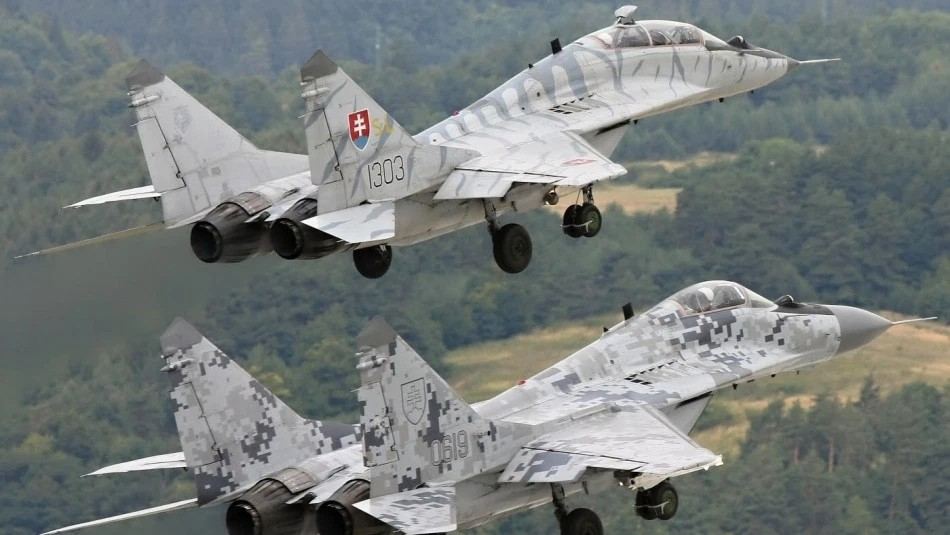Mig-29: (70, 267, 937, 535), (55, 1, 853, 273)
